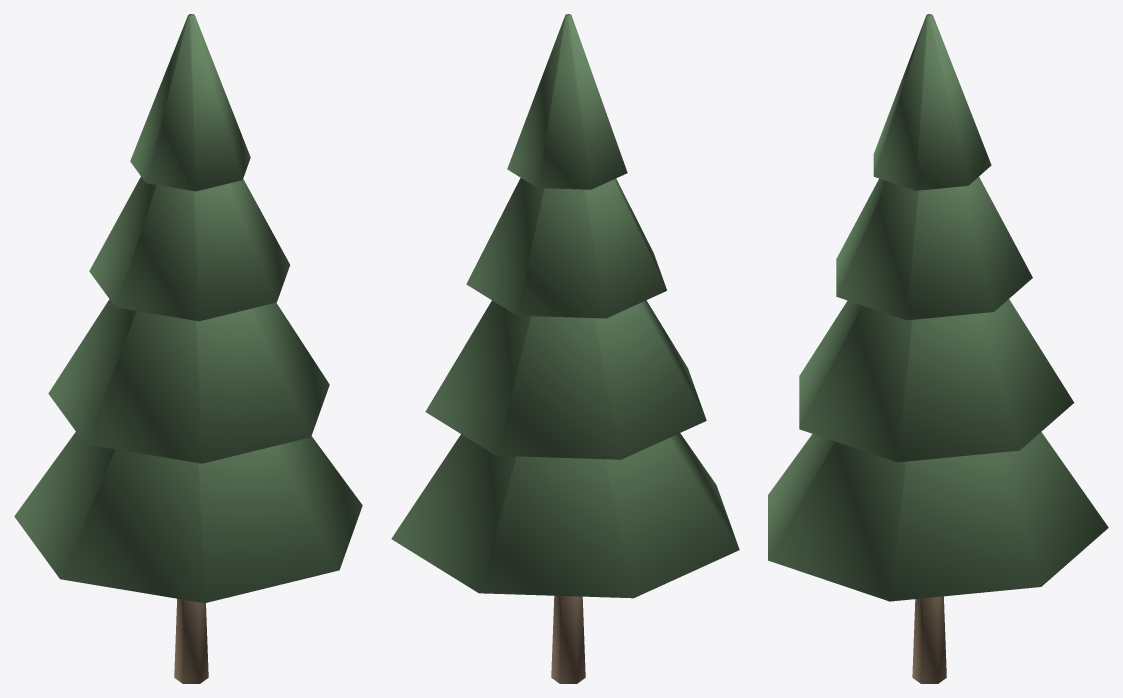
File: pine_tree.glb
The picture shows the model from 3 angles, left to right: view 1: azimuth 30°, elevation 25°; view 2: azimuth 150°, elevation 25°; view 3: azimuth 270°, elevation 25°; orthographic projection.
Visible parts, largest first — view 1: Pine; view 2: Pine; view 3: Pine.
Boxes of the visible parts, left/top/right/bottom form: Pine: left=14, top=14, right=362, bottom=683; Pine: left=391, top=14, right=739, bottom=683; Pine: left=768, top=14, right=1108, bottom=683.
Size of the model in its own units: 5.07 by 10.6 by 4.94.
